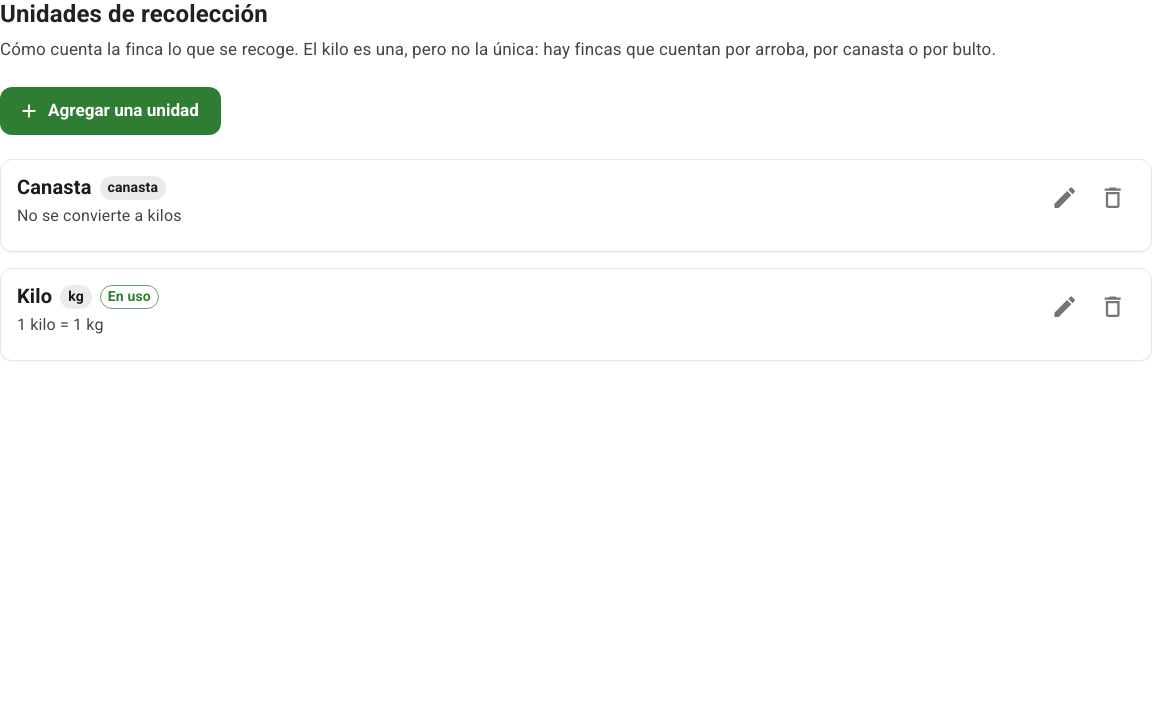
Test: units of collection › warns that a unit already used will be RETIRED, not deleted
This screenshot has width=1152, height=720.
Click the button named "Quitar Kilo": (1113, 307) [1091,285,1135,329]
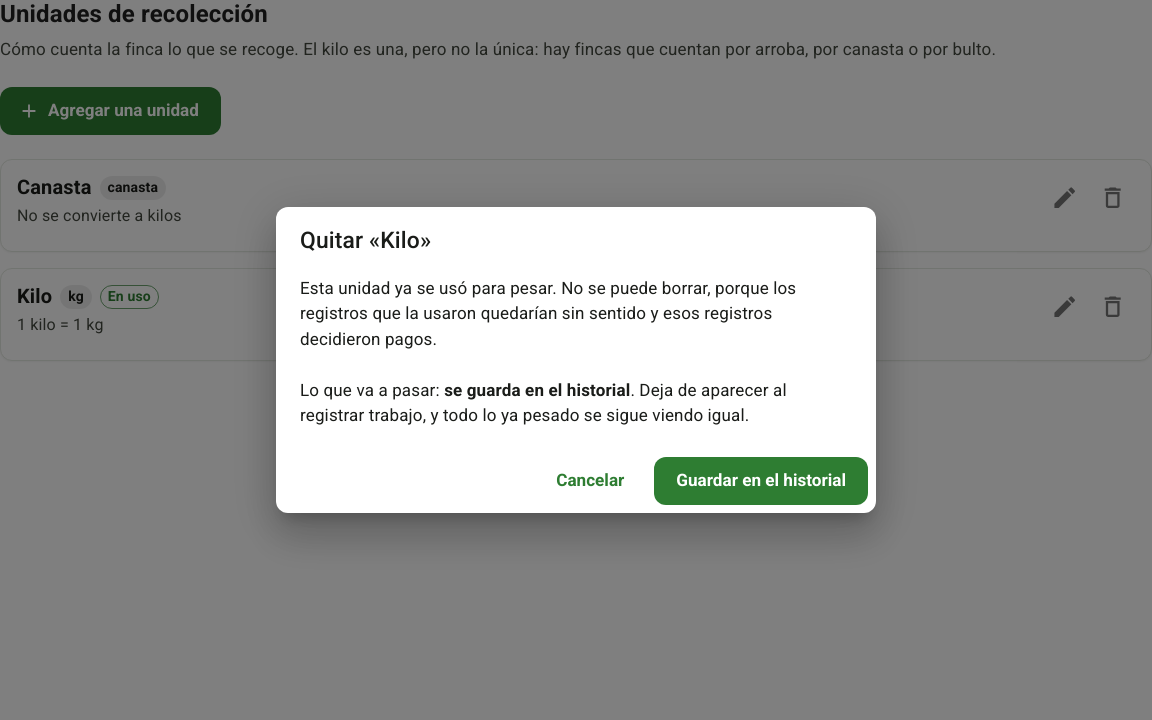
expect the text "se guarda en el historial" is shown: met, box [444,380,630,400]
expect the button "Guardar en el historial" is shown: met, box [654,457,868,505]
